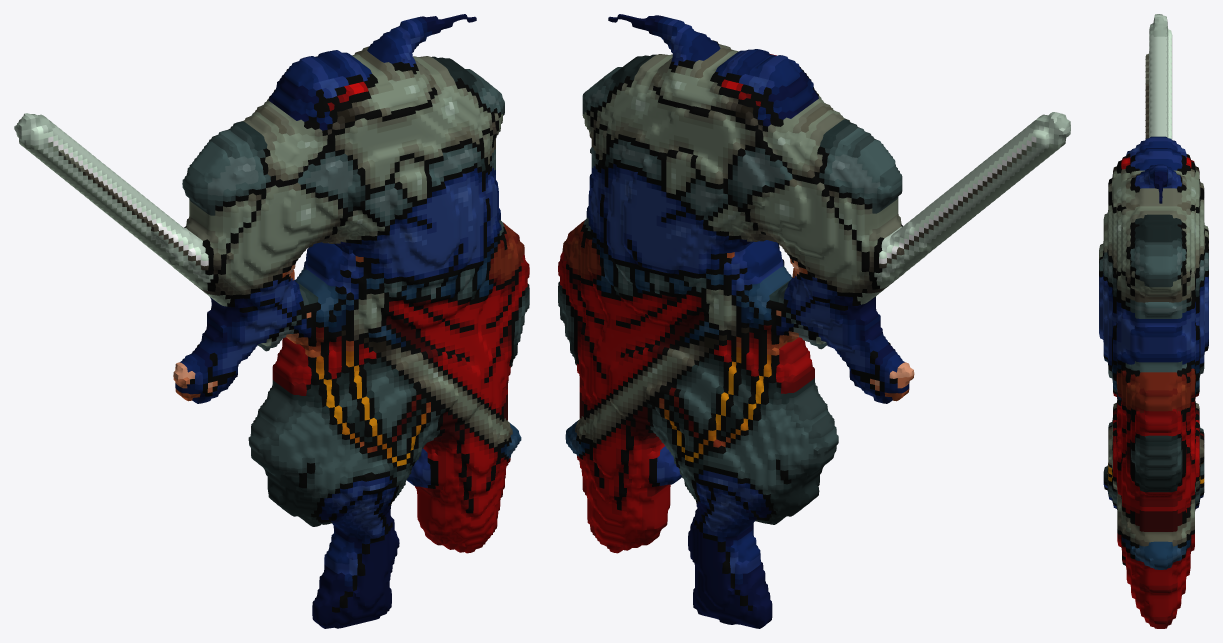
Rendered from Fight_001_1_02.obj.
3 views of the same model, side by side, from view 1: azimuth 30°, elevation 25°; view 2: azimuth 150°, elevation 25°; view 3: azimuth 270°, elevation 25° (orthographic). The views are drawn at different scales.
Bounding box in the file's own units: 10.3 × 11.4 × 2.4.
Materials: 1 (1 with a texture image).
